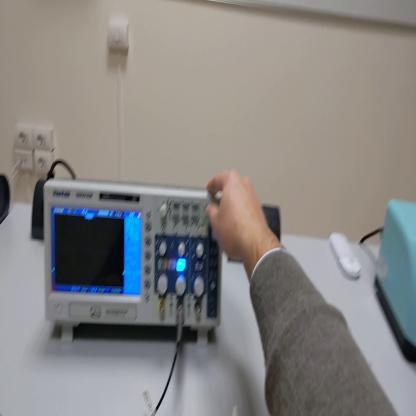hand: (206, 170, 268, 265)
oscilloscope: (42, 185, 221, 353)
socket: (31, 182, 44, 239), (2, 171, 12, 227)
welder station: (377, 199, 414, 366)
